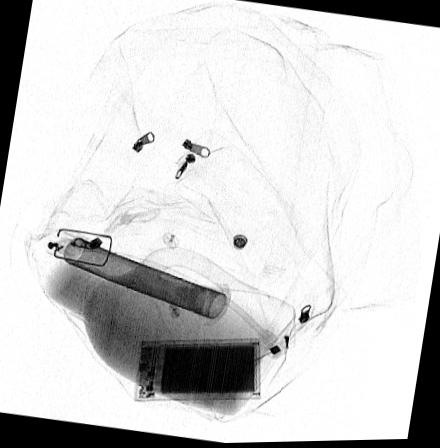Powerbank: (135, 339, 262, 401)
